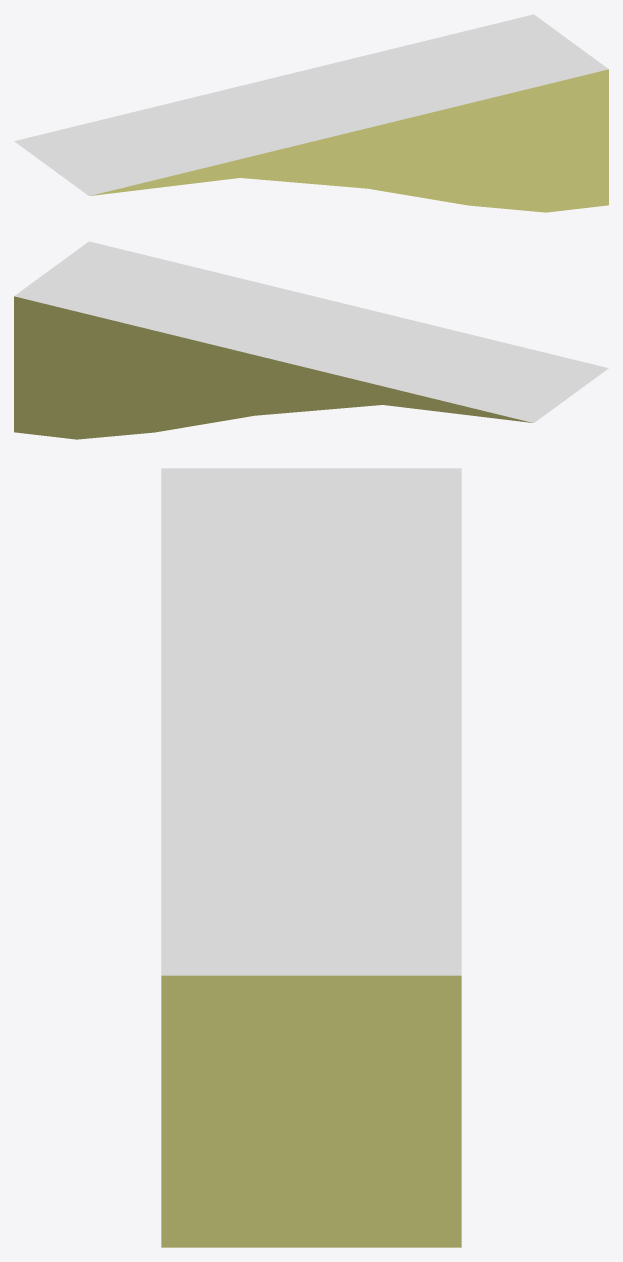
Rendered from Ceiling_Incline_1x3.glb.
3 views of the same model, one above another, from view 1: azimuth 30°, elevation 25°; view 2: azimuth 150°, elevation 25°; view 3: azimuth 270°, elevation 25° (orthographic). The views are drawn at different scales.
Visible parts, largest first — view 1: Ceiling_Incline_1x3; view 2: Ceiling_Incline_1x3; view 3: Ceiling_Incline_1x3.
Boxes of the visible parts, <box> form: Ceiling_Incline_1x3: <box>14,14,608,212</box>; Ceiling_Incline_1x3: <box>14,241,608,439</box>; Ceiling_Incline_1x3: <box>161,468,461,1247</box>.
Size of the model in its own units: 400 by 100 by 100.
